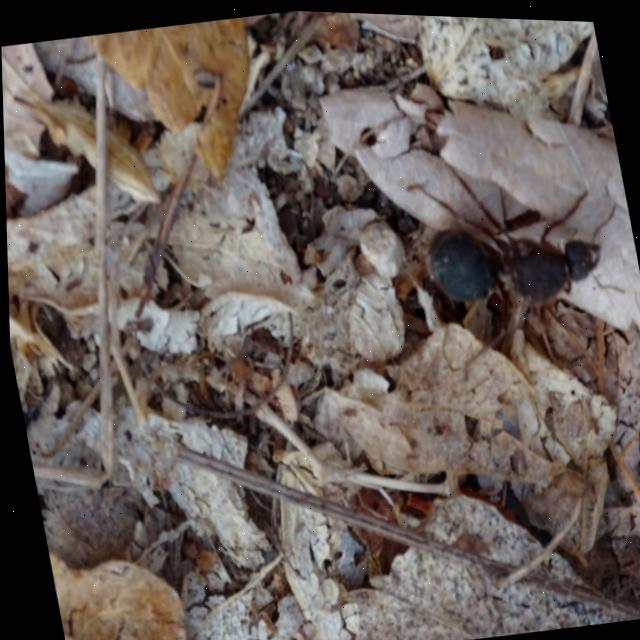Alive-Female-Dealate: (400, 133, 640, 398)
